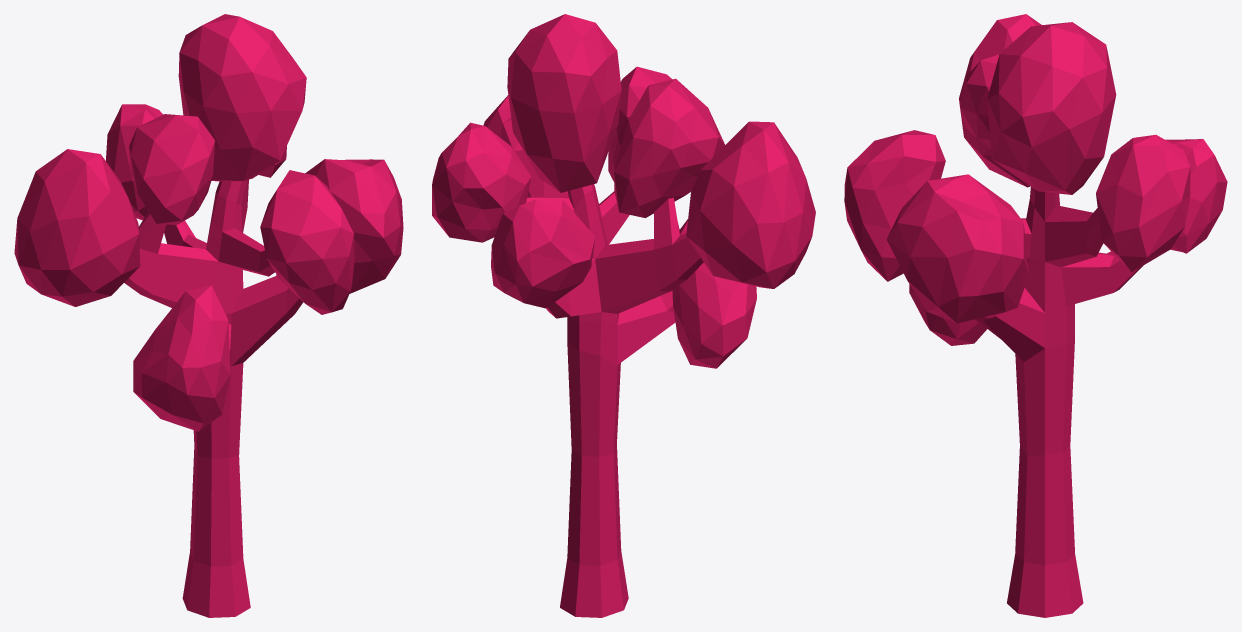
Rendered from arbre_taille_rose.glb.
The picture shows the model from 3 angles, left to right: view 1: azimuth 30°, elevation 25°; view 2: azimuth 150°, elevation 25°; view 3: azimuth 270°, elevation 25°; orthographic projection. The views are drawn at different scales.
Visible parts, largest first — view 1: Arbre_Normal; view 2: Arbre_Normal; view 3: Arbre_Normal.
Part boxes in pixels (x1,y1,x2,y2): Arbre_Normal: (14,14,403,617); Arbre_Normal: (432,14,815,617); Arbre_Normal: (844,14,1227,617).
Bounding box in the file's own units: 5.66 × 9.12 × 5.36.
